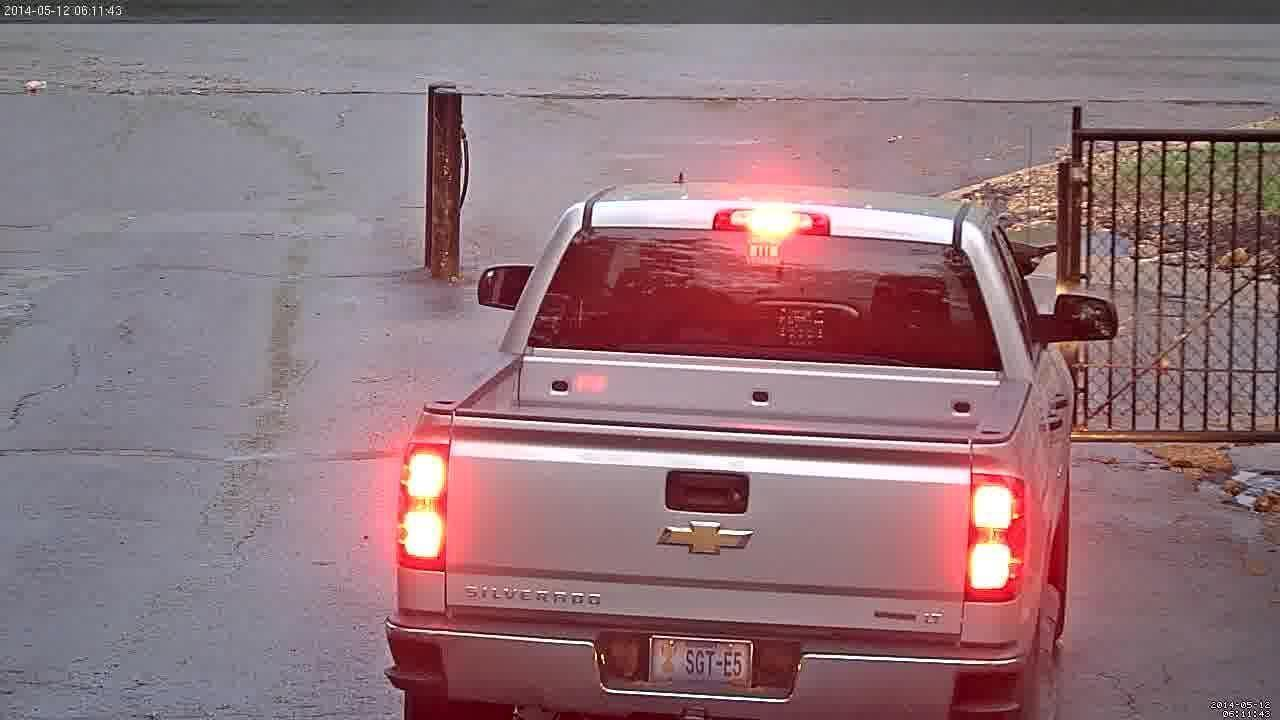placa de veiculo: (628, 617, 777, 704)
